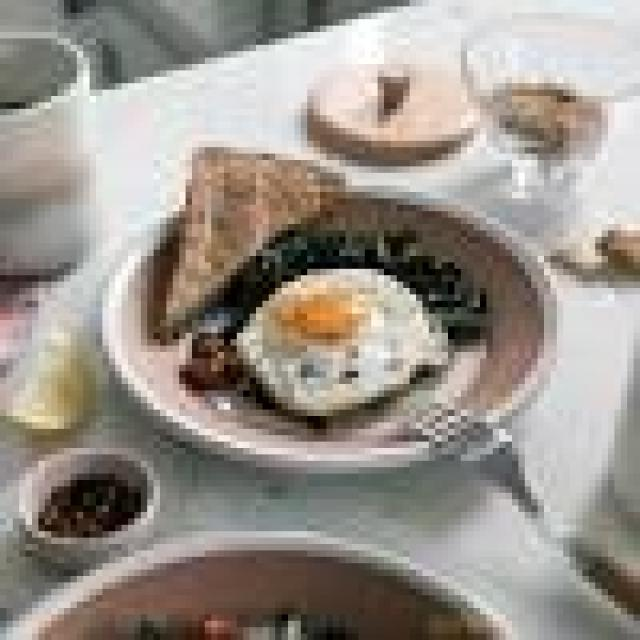Egg: (235, 270, 449, 416)
